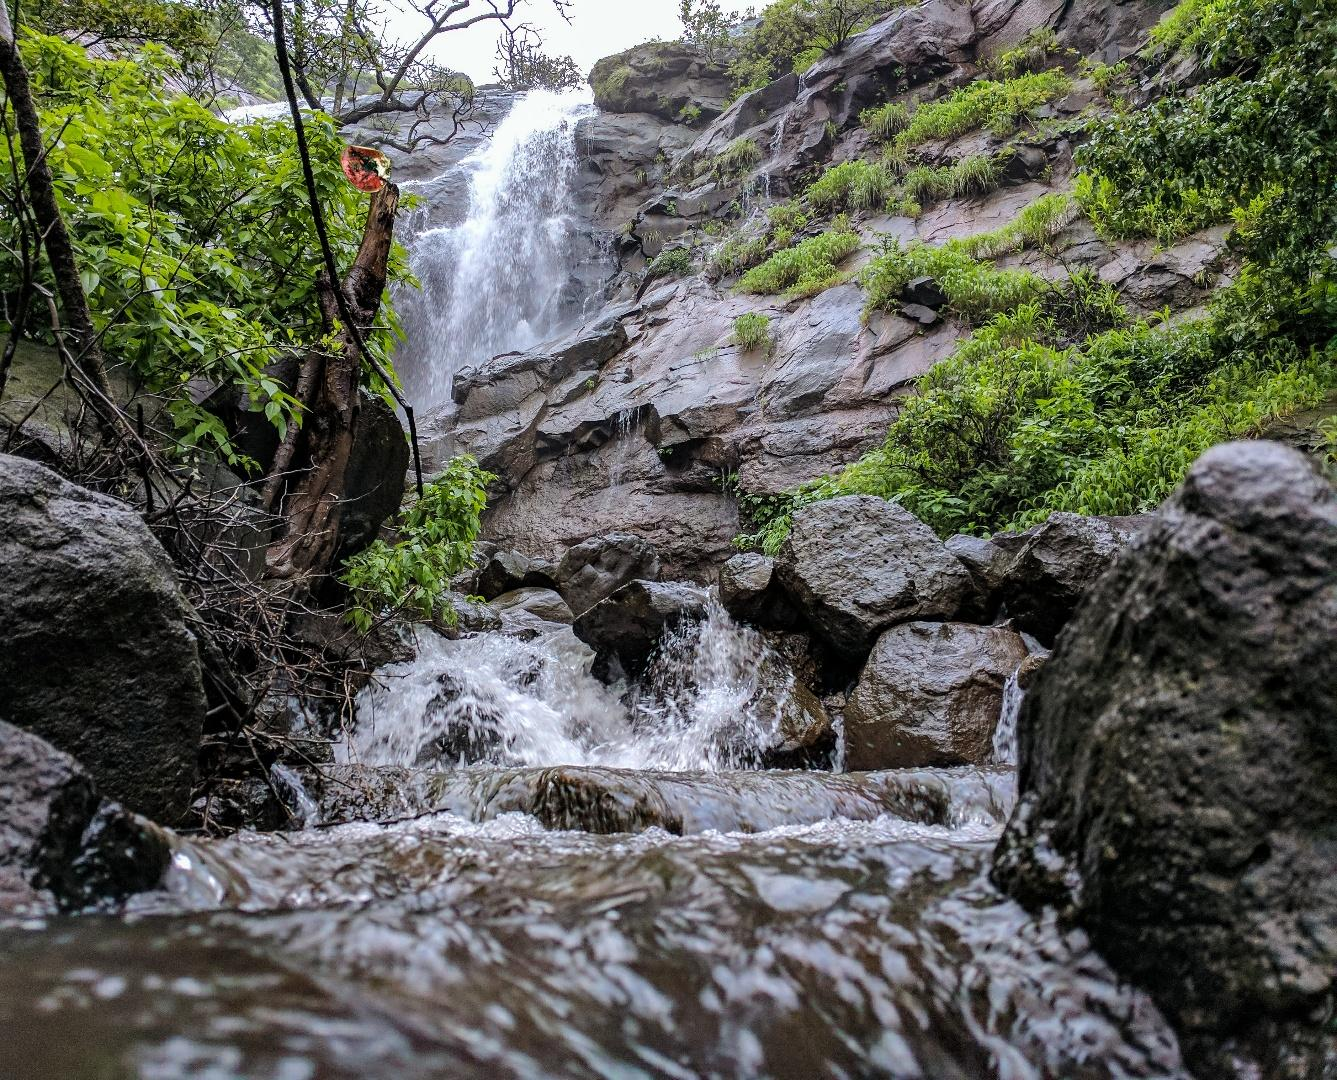biological: (180, 26, 398, 250)
